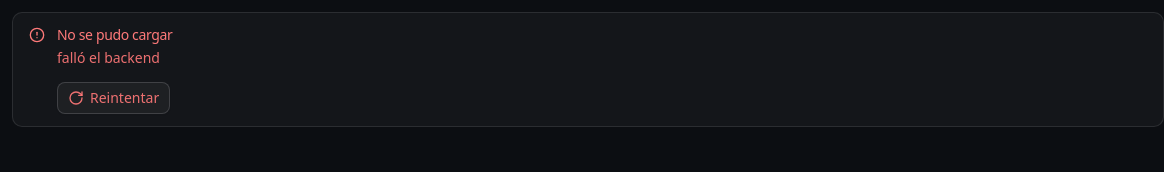
Test case: QueryBoundary › error claro con Reintentar (no pantalla en blanco)
expect the text "falló el backend" is shown: met, box [57,47,160,70]
Click the button "Reintentar": (114, 98) [57,82,170,114]
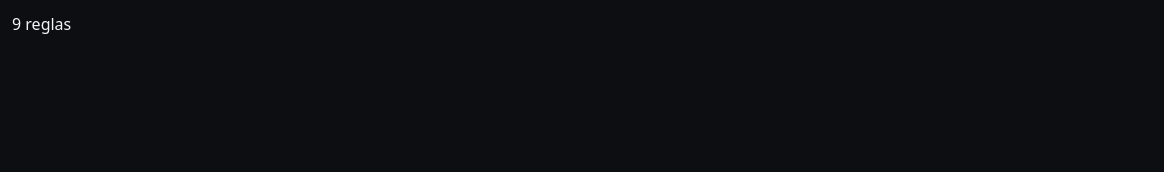
expect the text "9 reglas" is shown: met, box [12,13,71,35]
